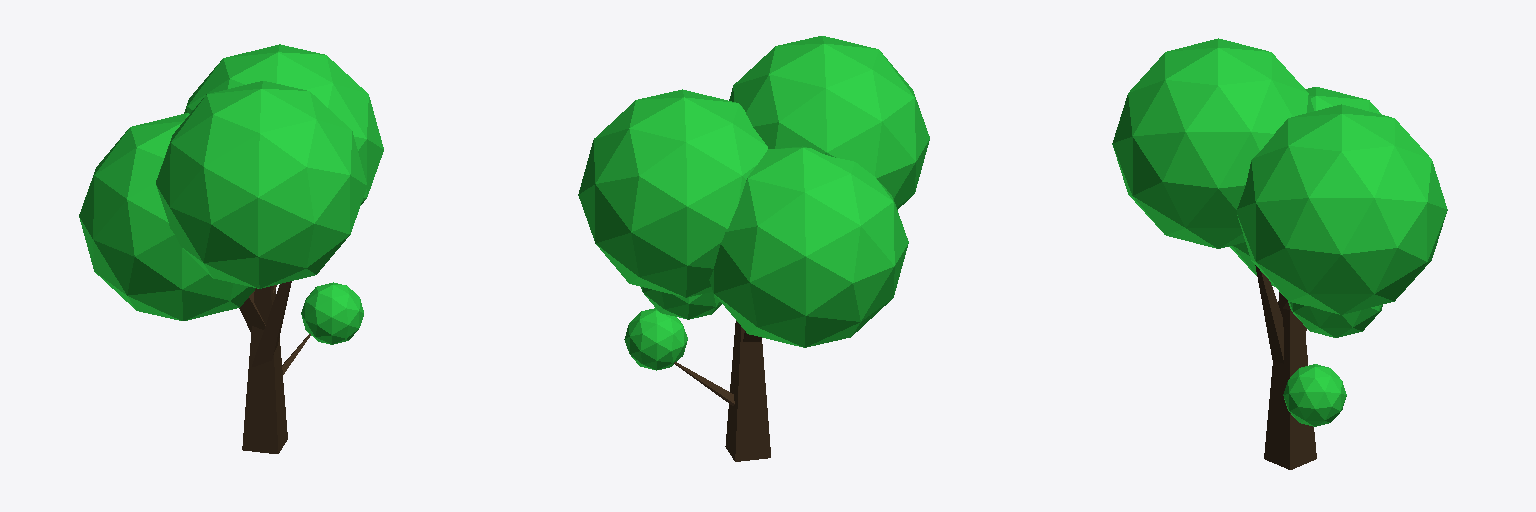
Rendered from Tree 2.obj.
3 views of the same model, side by side, from view 1: azimuth 30°, elevation 25°; view 2: azimuth 150°, elevation 25°; view 3: azimuth 270°, elevation 25° (orthographic).
Parts seen in each view (by area): view 1: Tree 2; view 2: Tree 2; view 3: Tree 2.
Part boxes in pixels (x1,y1,x2,y2): Tree 2: (79, 44, 383, 453); Tree 2: (578, 36, 929, 461); Tree 2: (1112, 38, 1447, 469).
Bounding box in the file's own units: 0.63 × 0.8154 × 0.632.